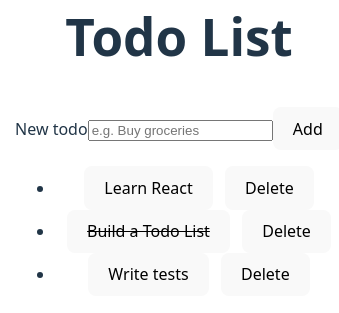
TodoList › deletes a todo item
Expected: the button "Write tests" is shown, [88, 253, 209, 296]
Click the button with aria-label "Delete Write tests": (265, 274) [221, 253, 310, 296]
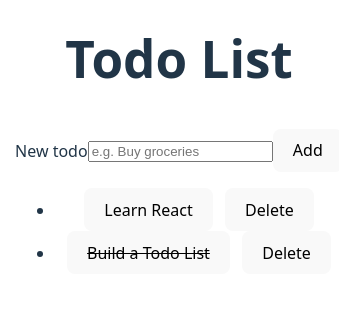
Now the button "Write tests" is gone
